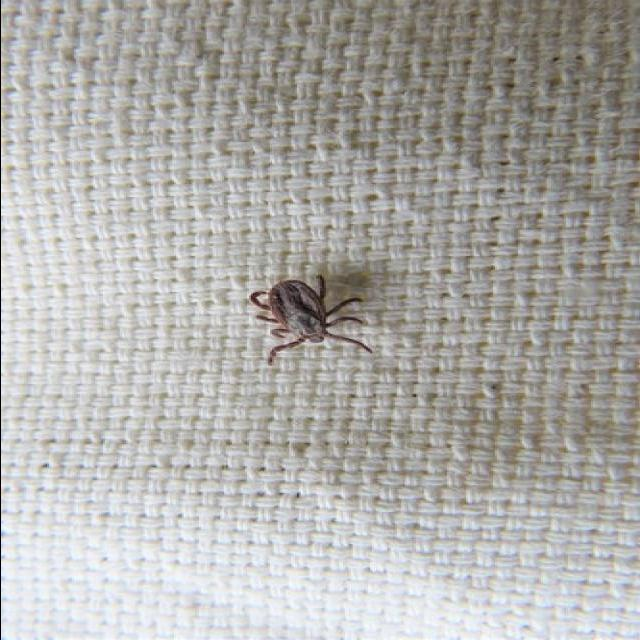Dermacentor Reticulatus-F: (248, 275, 375, 365)
